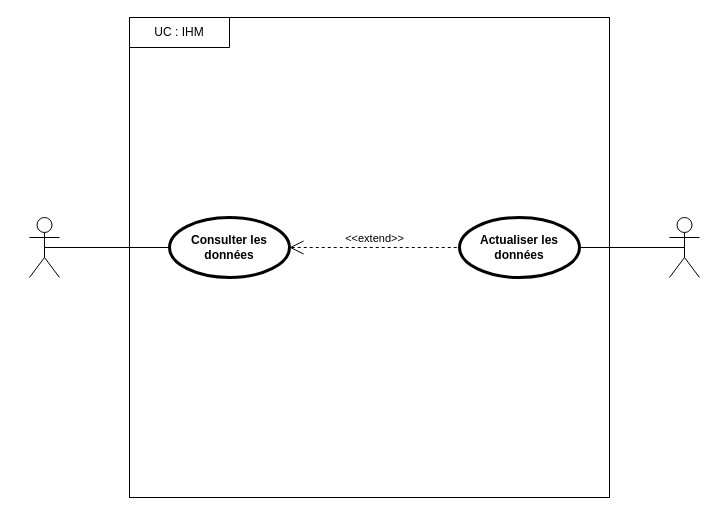
Some shapes in this 717 by 515 pixel diagram are drawn without their labels. Each missing label, with the centre of its shape:
Opérateur: the point at 44,247
SysT: the point at 684,247
